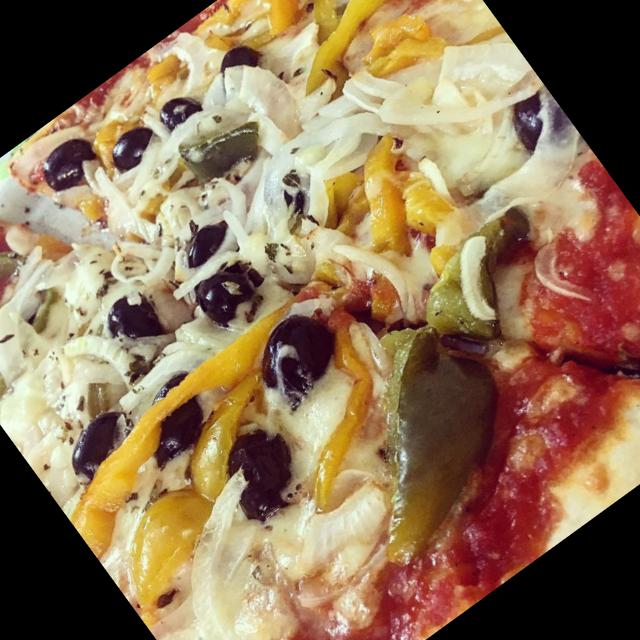black_olives: (232, 296, 354, 415), (204, 412, 310, 520), (125, 360, 228, 464), (47, 398, 142, 491), (182, 244, 278, 334), (88, 280, 176, 370), (20, 124, 110, 208), (490, 76, 574, 160), (156, 208, 242, 286), (99, 112, 164, 176), (145, 78, 210, 141), (203, 35, 265, 95)
peppers: (34, 286, 344, 546), (290, 308, 548, 566), (67, 374, 326, 616), (235, 304, 432, 507), (393, 210, 557, 368), (249, 0, 460, 91), (321, 125, 456, 266), (343, 0, 453, 97), (166, 97, 267, 193), (190, 0, 304, 68), (131, 40, 188, 96)
pizza: (0, 0, 640, 640)
